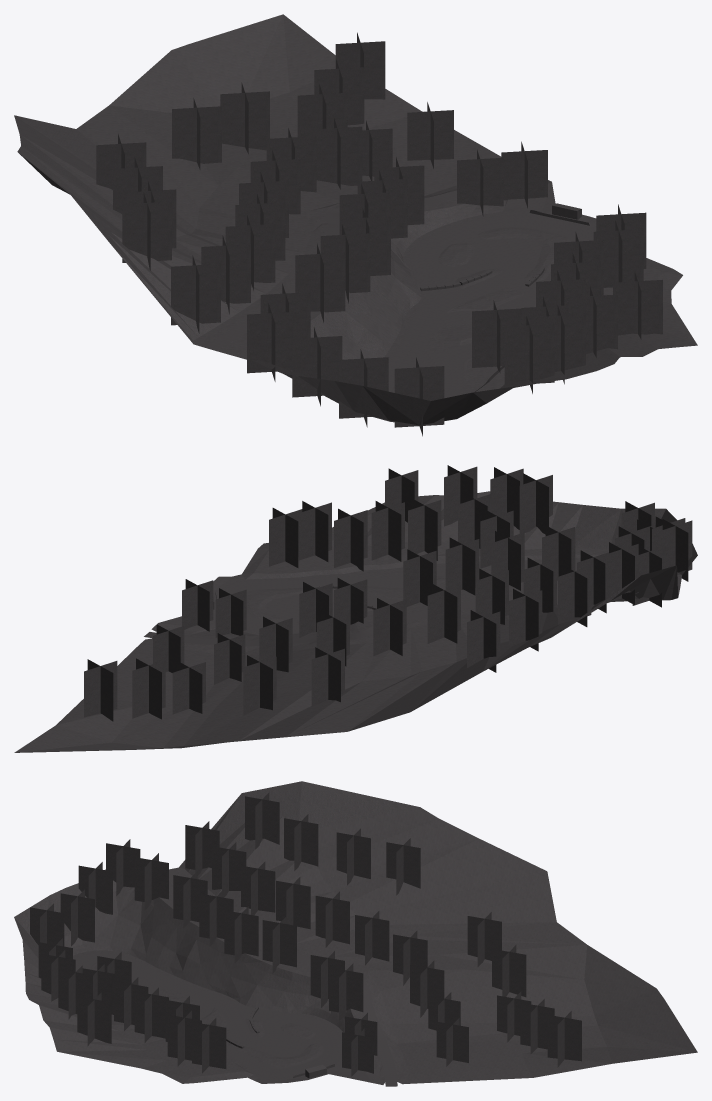
File: ebisuland3.glb
3 views of the same model, one above another, from view 1: azimuth 30°, elevation 25°; view 2: azimuth 150°, elevation 25°; view 3: azimuth 270°, elevation 25° (orthographic). The views are drawn at different scales.
Visible parts, largest first — view 1: ebisuland3; view 2: ebisuland3; view 3: ebisuland3.
Part boxes in pixels (x1=…): ebisuland3: x1=14, y1=14, x2=697, y2=436; ebisuland3: x1=14, y1=465, x2=697, y2=752; ebisuland3: x1=14, y1=781, x2=697, y2=1086.
Size of the model in its own units: 181 by 51.87 by 273.
1 material, 1 textured.
